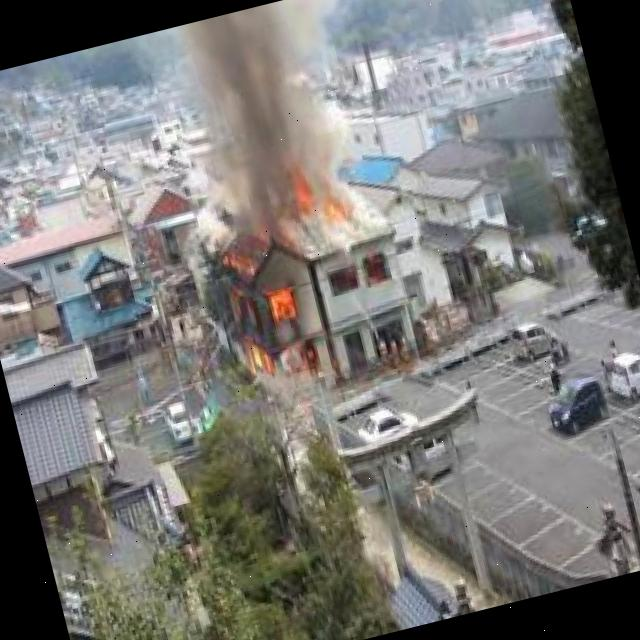fire: (218, 243, 315, 391)
